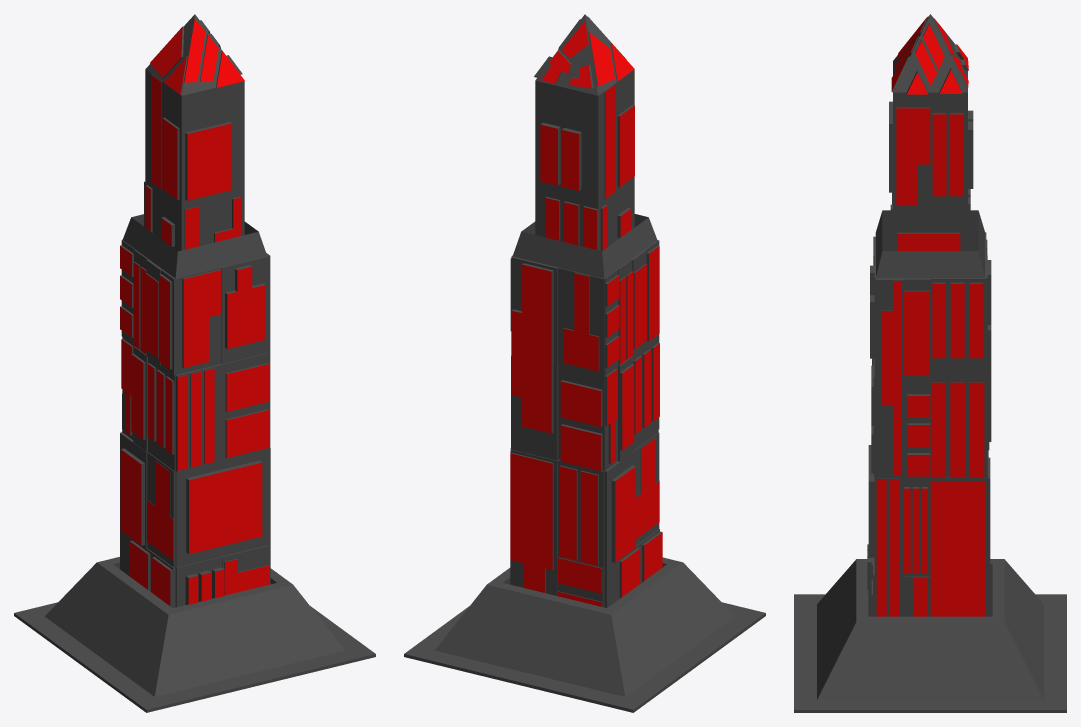
Rendered from tower.FBX.
The picture shows the model from 3 angles, left to right: view 1: azimuth 30°, elevation 25°; view 2: azimuth 150°, elevation 25°; view 3: azimuth 270°, elevation 25°; orthographic projection. The views are drawn at different scales.
Visible parts, largest first — view 1: Plane01, panels; view 2: Plane01, panels; view 3: Plane01, panels.
Boxes of the visible parts, bbox=[...] form: Plane01: bbox=[14, 14, 375, 712]; panels: bbox=[120, 19, 269, 605]; Plane01: bbox=[404, 14, 765, 712]; panels: bbox=[510, 21, 662, 606]; Plane01: bbox=[794, 14, 1066, 712]; panels: bbox=[876, 17, 984, 616].
Size of the model in its own units: 234 by 608 by 234.
